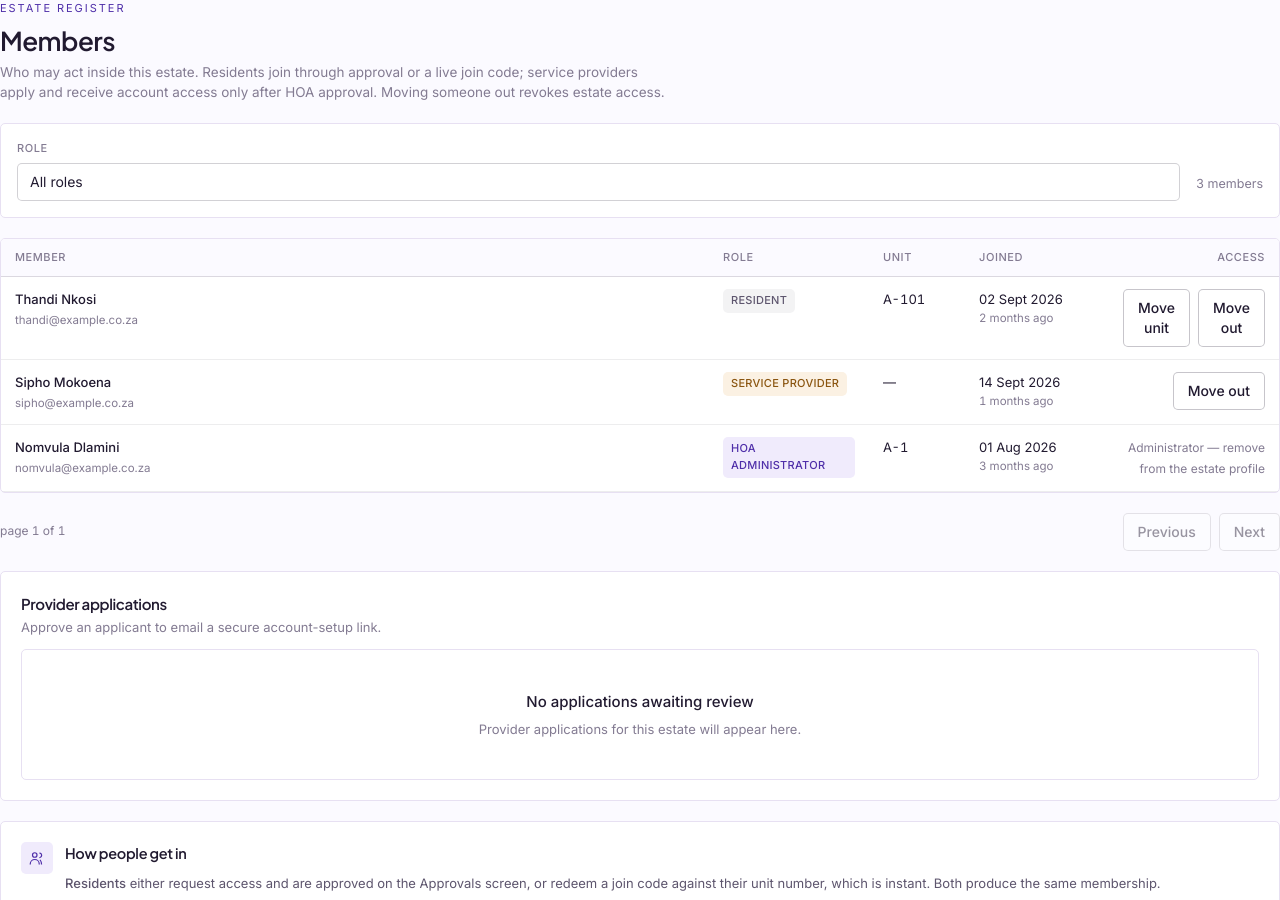
Scenario: Members — removal › reports a rejected removal inside the dialog, without closing it
The image size is (1280, 900).
Expected: the text "Thandi Nkosi" is shown, [15, 292, 96, 308]
Click the button "Move out" in the row of "Thandi Nkosi".
click(1232, 318)  # box [1198, 290, 1265, 348]
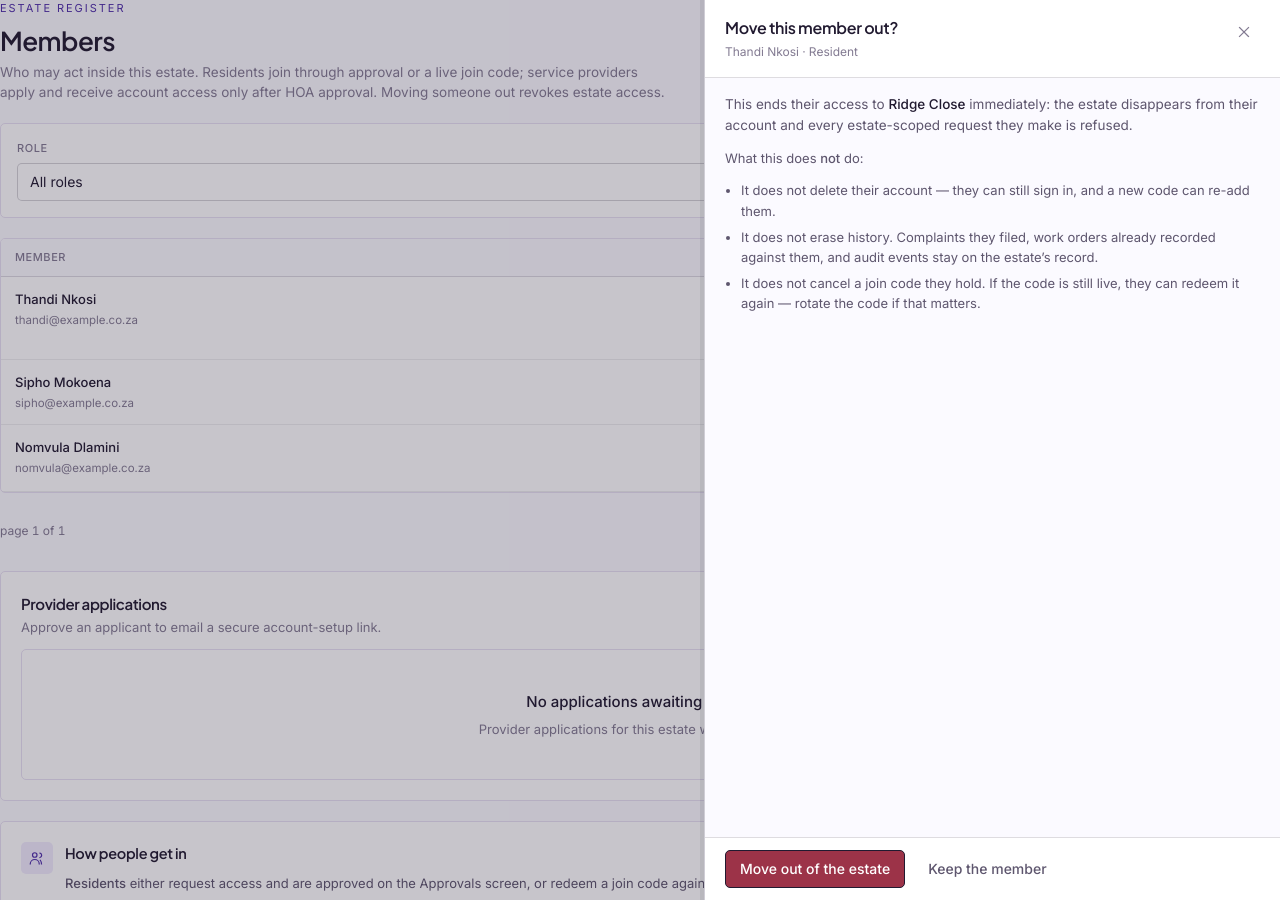
Click the button "Move out of the estate".
click(815, 869)  # box [725, 850, 905, 888]
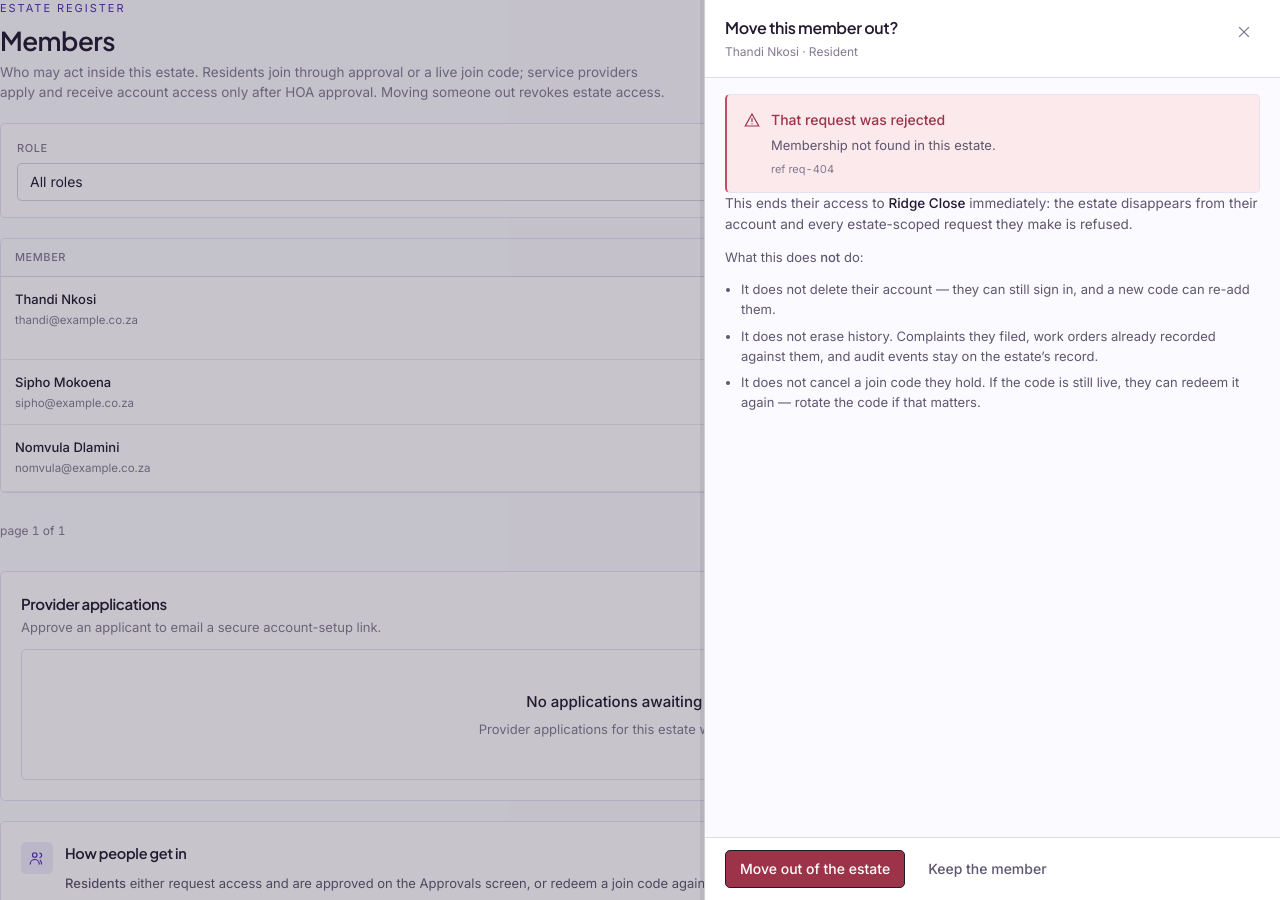
Now the text "Membership not found in this estate." is shown, box [771, 135, 996, 155]
Now the text "ref req-404" is shown, box [771, 162, 834, 176]
